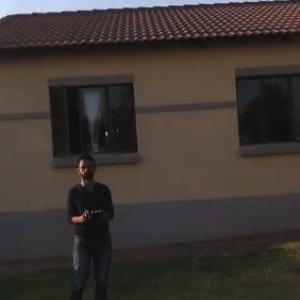follow: (62, 146, 120, 299)
